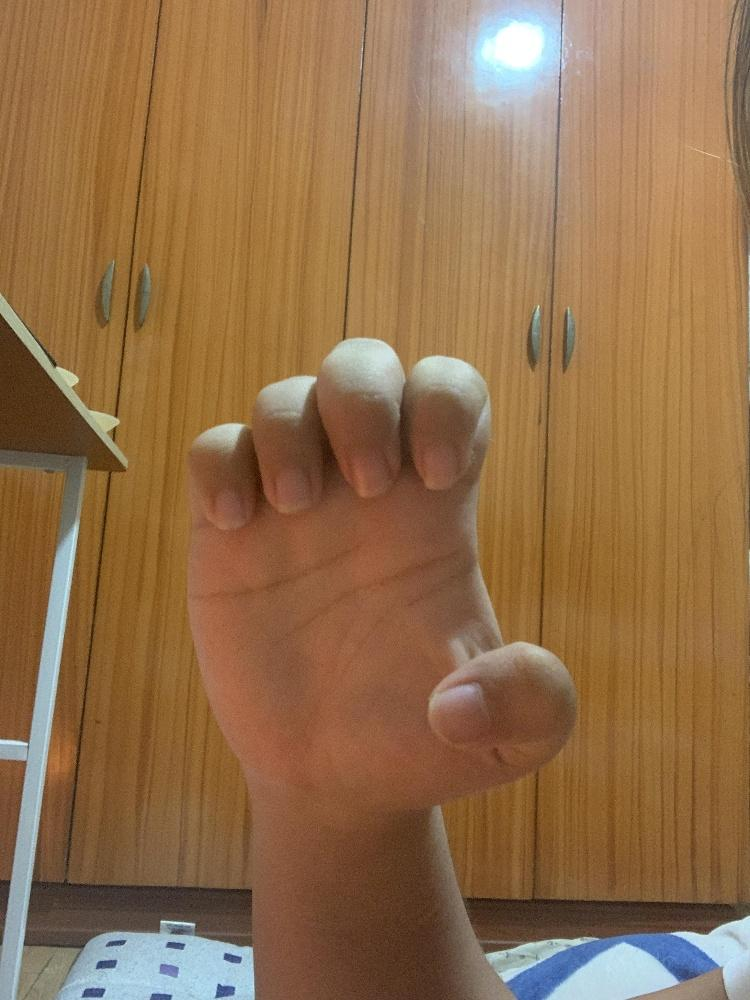e: (180, 332, 578, 817)
